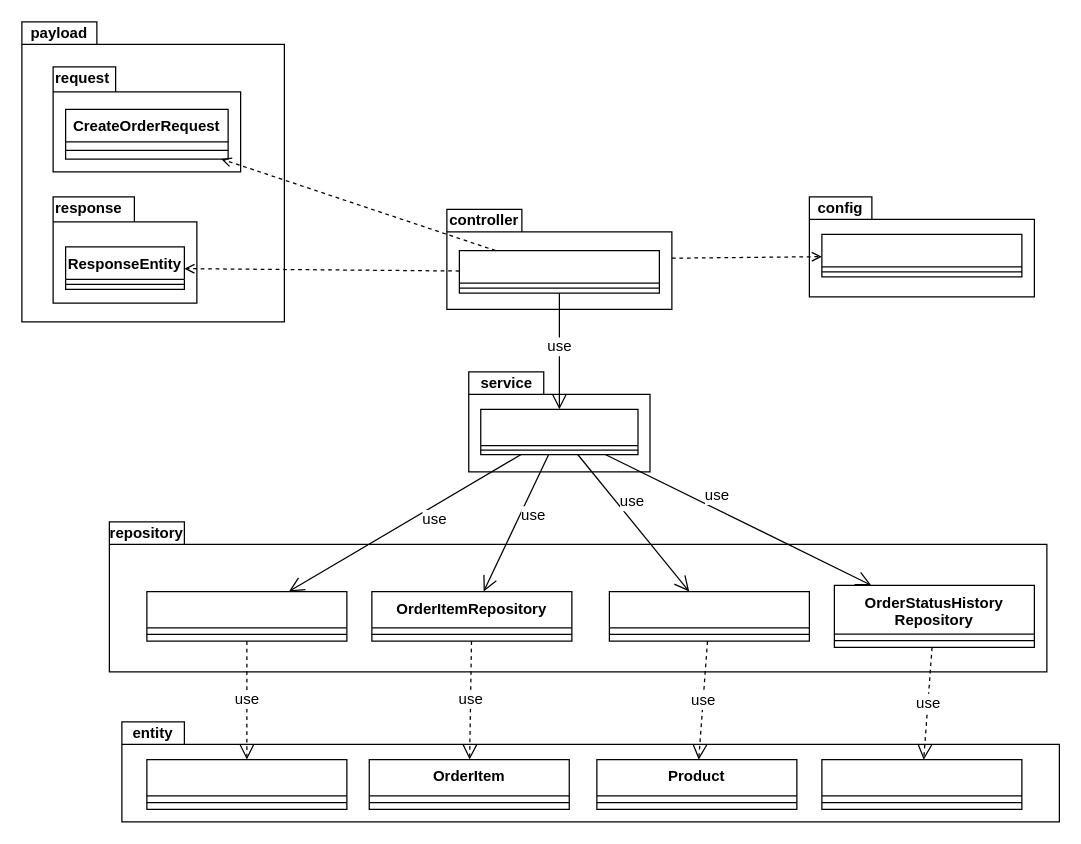
Image size: 1081x844. Some labels were removed from this diagram. The centre of each missing label's shape, as x and y in pixels:
Order: the point at 246,783
OrderController: the point at 558,271
OrderRepository: the point at 246,615
OrderService: the point at 559,431
OrderStatusHistory: the point at 921,783
ProductRepository: the point at 708,615
SercurityConfig: the point at 921,255
